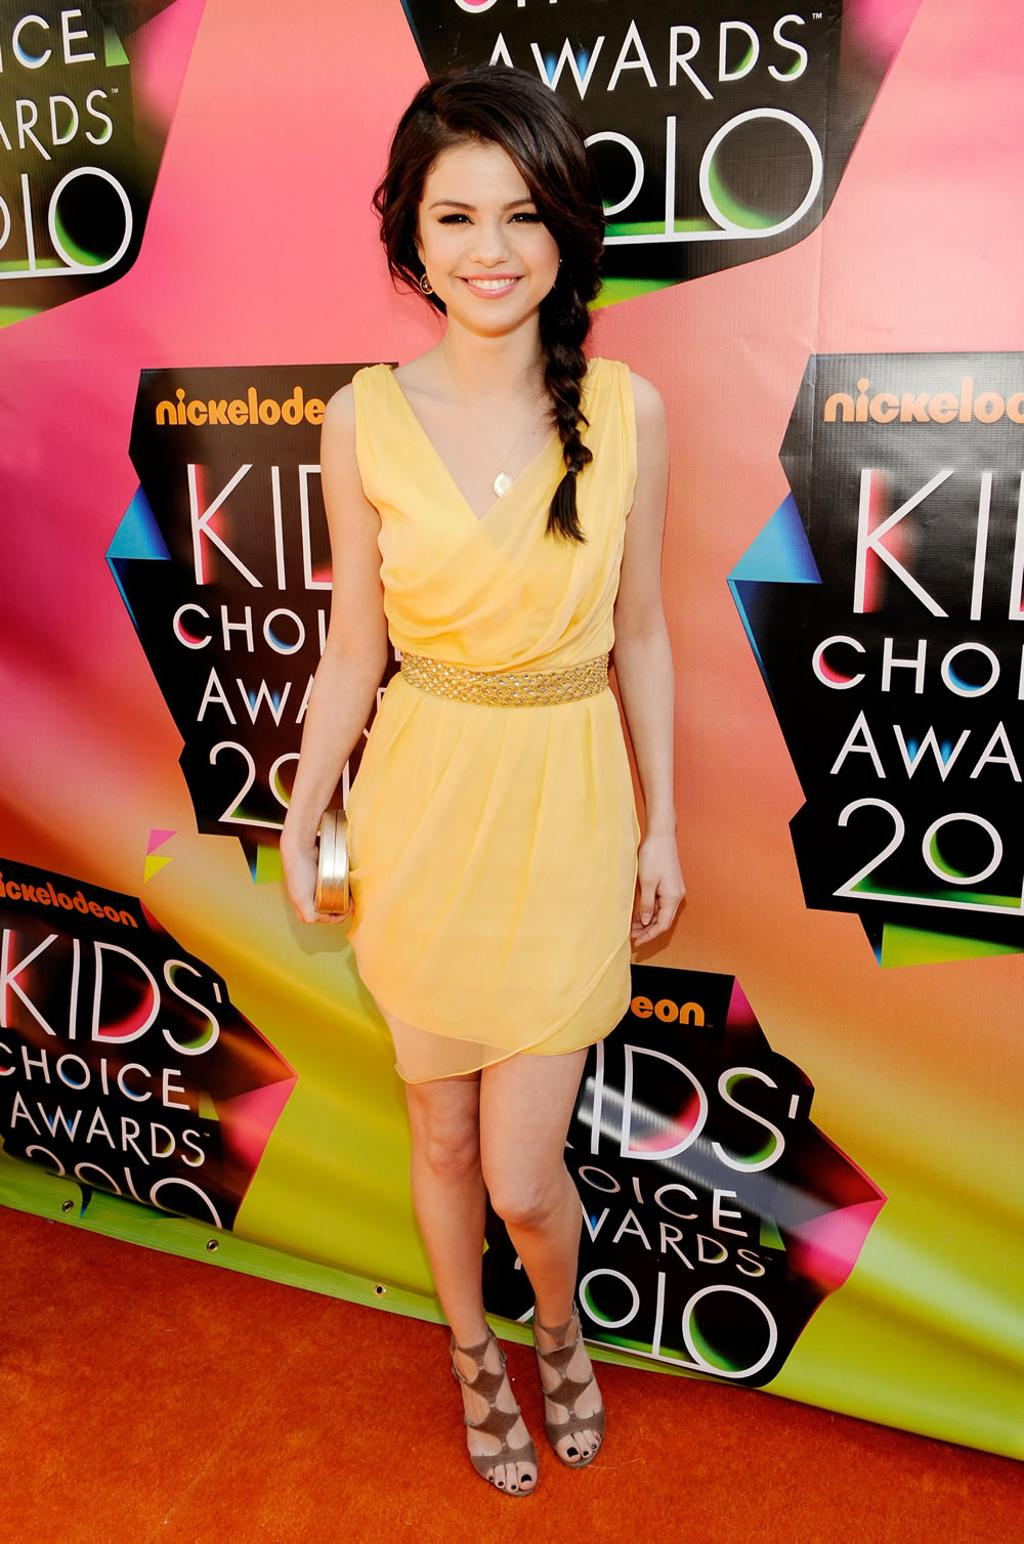face: (419, 123, 561, 334)
